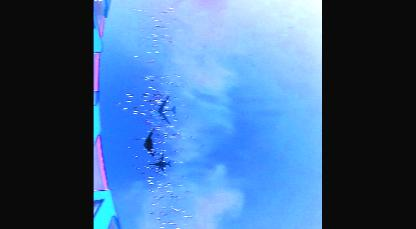AV8B: (149, 153, 172, 173)
B1: (142, 130, 154, 155)
B2: (152, 95, 177, 123)
